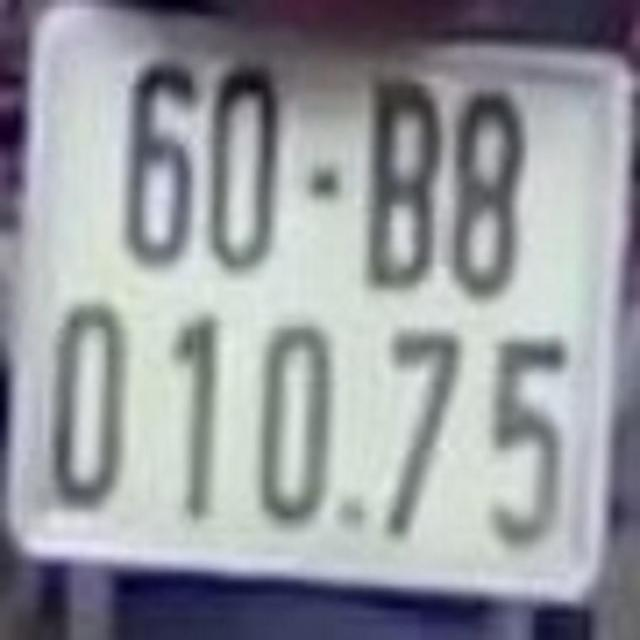0: (49, 299, 126, 503), (207, 58, 276, 269), (259, 322, 330, 517)
1: (384, 321, 462, 537), (163, 308, 224, 524)
5: (486, 329, 568, 545)
6: (118, 52, 197, 263)
8: (450, 79, 521, 292)
B: (364, 71, 438, 292)
